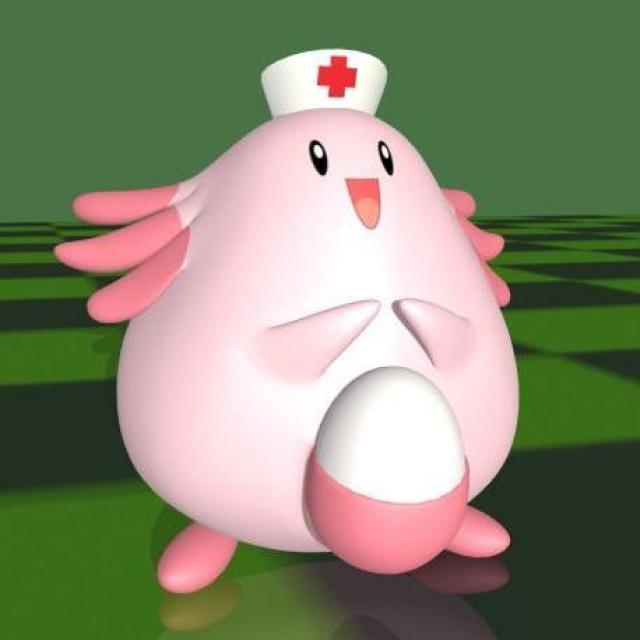Chansey: (76, 107, 534, 590)
